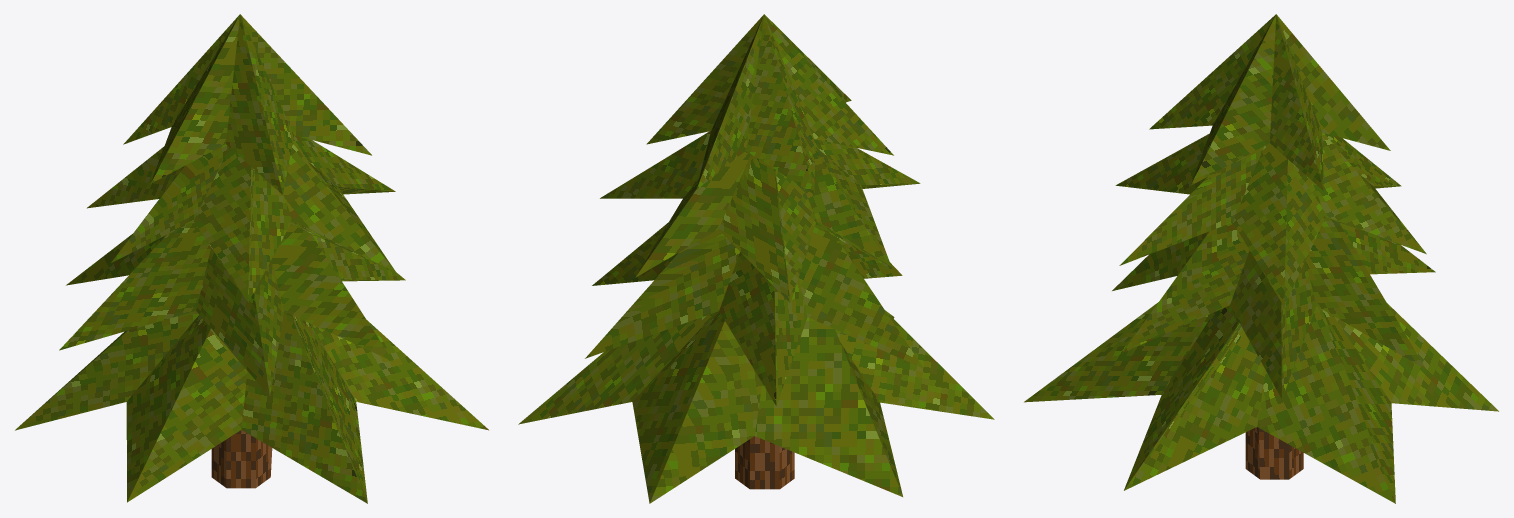
Rendered from SpruceTree.obj.
The picture shows the model from 3 angles, left to right: view 1: azimuth 30°, elevation 25°; view 2: azimuth 150°, elevation 25°; view 3: azimuth 270°, elevation 25°; orthographic projection. The views are drawn at different scales.
Parts seen in each view (by area): view 1: Tree4; view 2: Tree4; view 3: Tree4.
Part boxes in pixels (x1,y1,x2,y2): Tree4: (15, 14, 488, 503); Tree4: (518, 14, 994, 503); Tree4: (1024, 14, 1498, 503).
Size of the model in its own units: 4.89 by 5.9 by 5.6.
